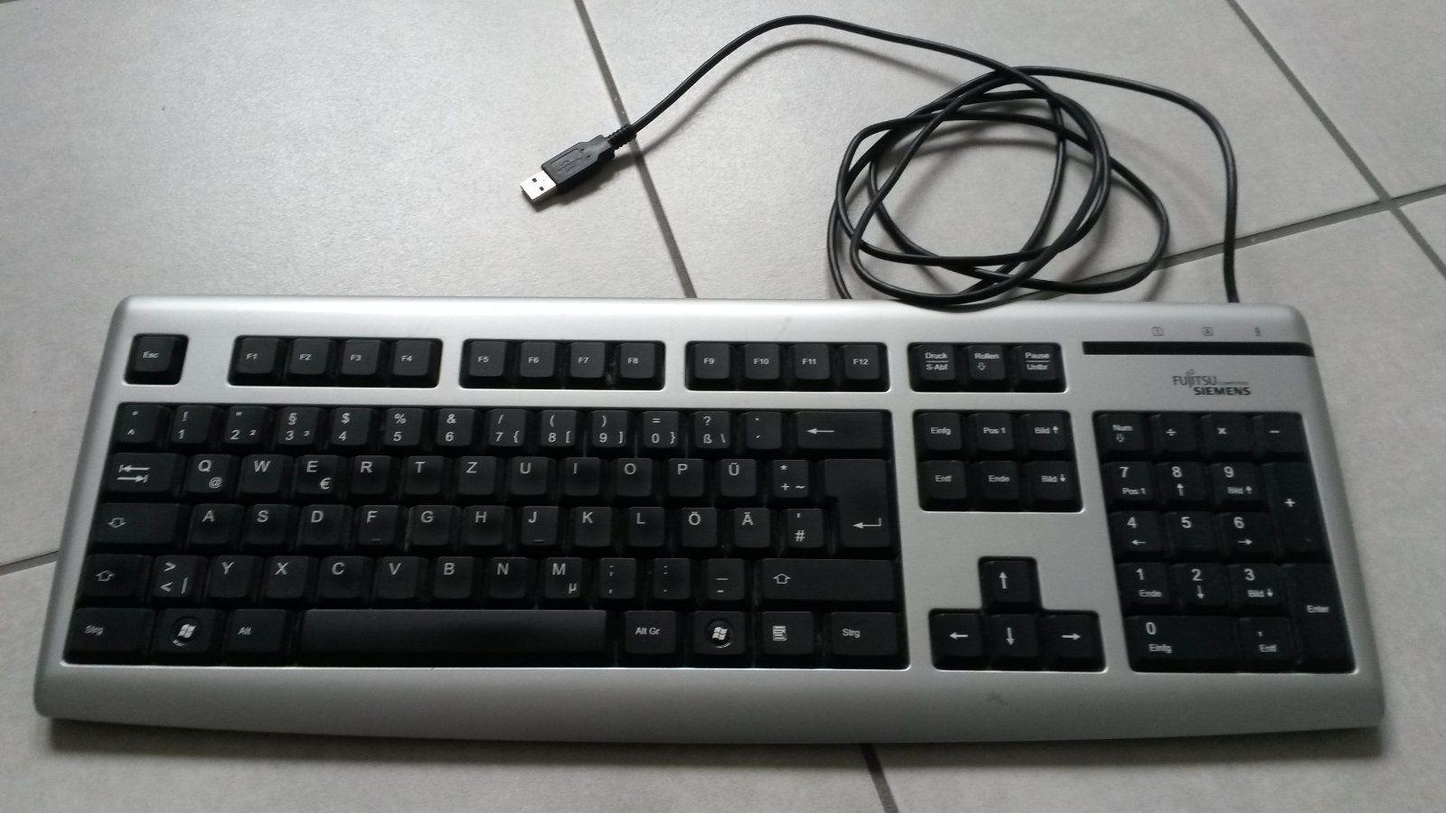0: (637, 406, 680, 449)
1: (165, 400, 211, 444)
2: (221, 401, 267, 444)
3: (272, 402, 317, 445)
4: (326, 402, 369, 445)
5: (379, 403, 422, 446)
6: (432, 403, 474, 446)
7: (484, 404, 526, 446)
8: (535, 405, 577, 448)
9: (587, 405, 629, 449)
a: (185, 500, 237, 544)
accent: (739, 407, 780, 448)
ae: (728, 502, 770, 547)
alt-left: (221, 605, 285, 656)
altgr-right: (618, 606, 677, 654)
b: (429, 552, 473, 597)
c: (315, 552, 368, 598)
caret: (111, 398, 158, 443)
comma: (593, 553, 634, 598)
d: (296, 500, 345, 546)
del: (792, 406, 885, 449)
e: (292, 450, 338, 495)
enter: (818, 452, 890, 550)
f: (354, 500, 396, 545)
g: (405, 501, 450, 545)
h: (459, 501, 505, 545)
hash: (780, 502, 822, 548)
i: (559, 453, 599, 494)
j: (517, 501, 557, 544)
k: (568, 501, 611, 546)
keyboard: (35, 294, 1388, 748)
l: (623, 501, 663, 546)
less: (147, 549, 195, 598)
m: (538, 553, 582, 599)
minus: (700, 554, 743, 599)
n: (483, 554, 528, 597)
o: (609, 453, 651, 495)
oe: (675, 503, 717, 547)
p: (662, 453, 702, 496)
plus: (765, 454, 808, 498)
point: (647, 554, 690, 598)
q: (182, 450, 230, 493)
r: (346, 451, 389, 494)
s: (242, 500, 288, 546)
shift-left: (76, 551, 144, 601)
shift-lock: (89, 499, 178, 544)
shift-right: (756, 554, 892, 598)
space: (296, 604, 608, 661)
ss: (689, 406, 730, 449)
strg-left: (60, 604, 151, 659)
strg-right: (822, 608, 899, 657)
t: (399, 451, 442, 494)
tab: (99, 449, 177, 494)
u: (504, 452, 548, 494)
ue: (714, 453, 756, 496)
v: (371, 552, 418, 596)
w: (237, 450, 282, 492)
x: (260, 552, 307, 597)
y: (204, 551, 251, 597)
z: (454, 452, 494, 493)
